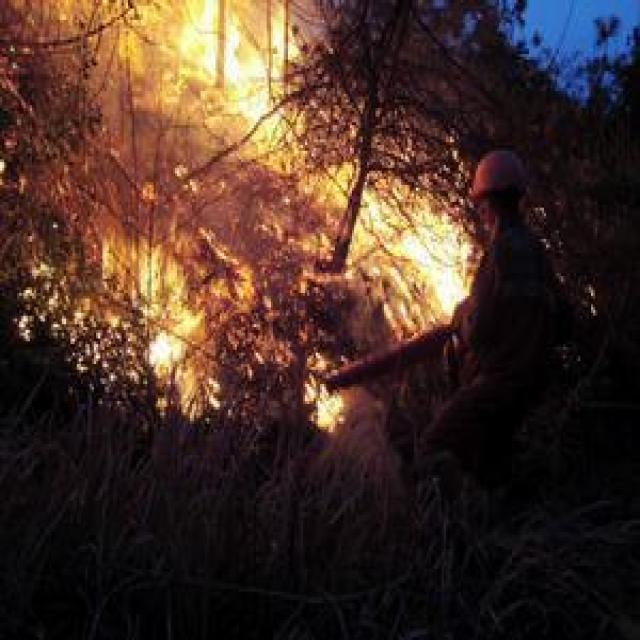fire: (94, 235, 330, 414), (171, 0, 322, 154), (328, 161, 472, 318)
